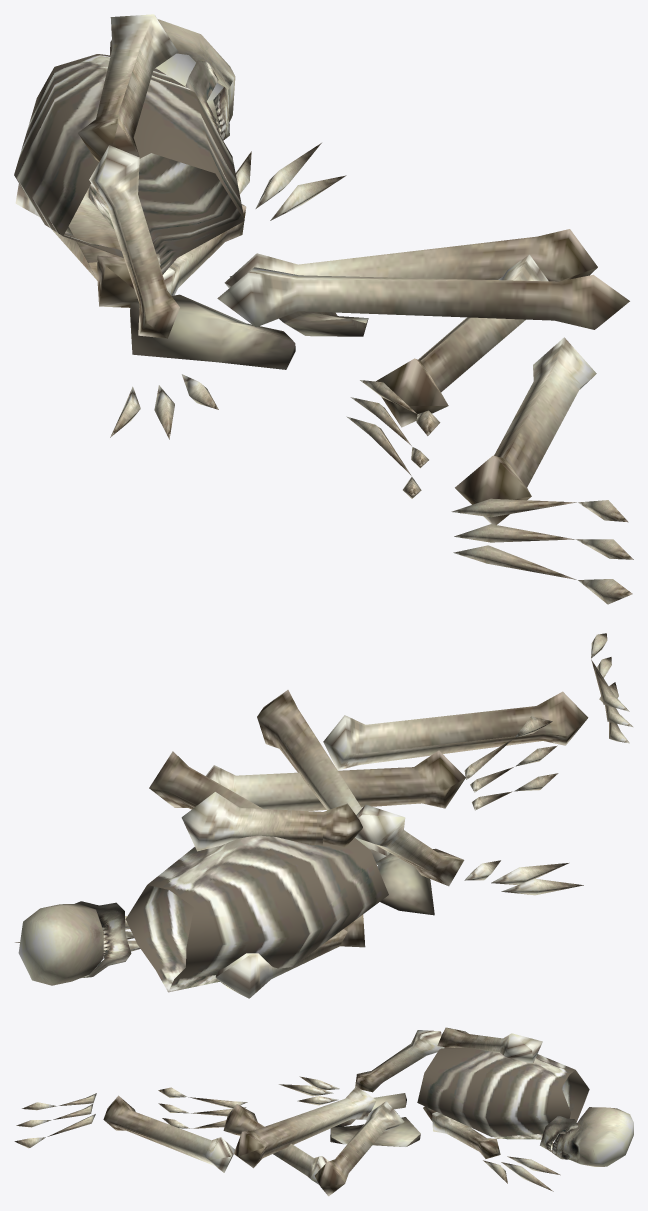
File: bloodroad2.dae
3 renders of one model, top to bottom at view 1: azimuth 30°, elevation 25°; view 2: azimuth 150°, elevation 25°; view 3: azimuth 270°, elevation 25°, orthographic. The views are drawn at different scales.
Parts seen in each view (by area): view 1: Geoset0; view 2: Geoset0; view 3: Geoset0.
Boxes of the visible parts, x1,y1,x2,y2 form: Geoset0: [14, 14, 633, 604]; Geoset0: [15, 633, 633, 998]; Geoset0: [14, 1027, 633, 1196].
Bounding box in the file's own units: 0.7545 × 1.57 × 0.3357.
